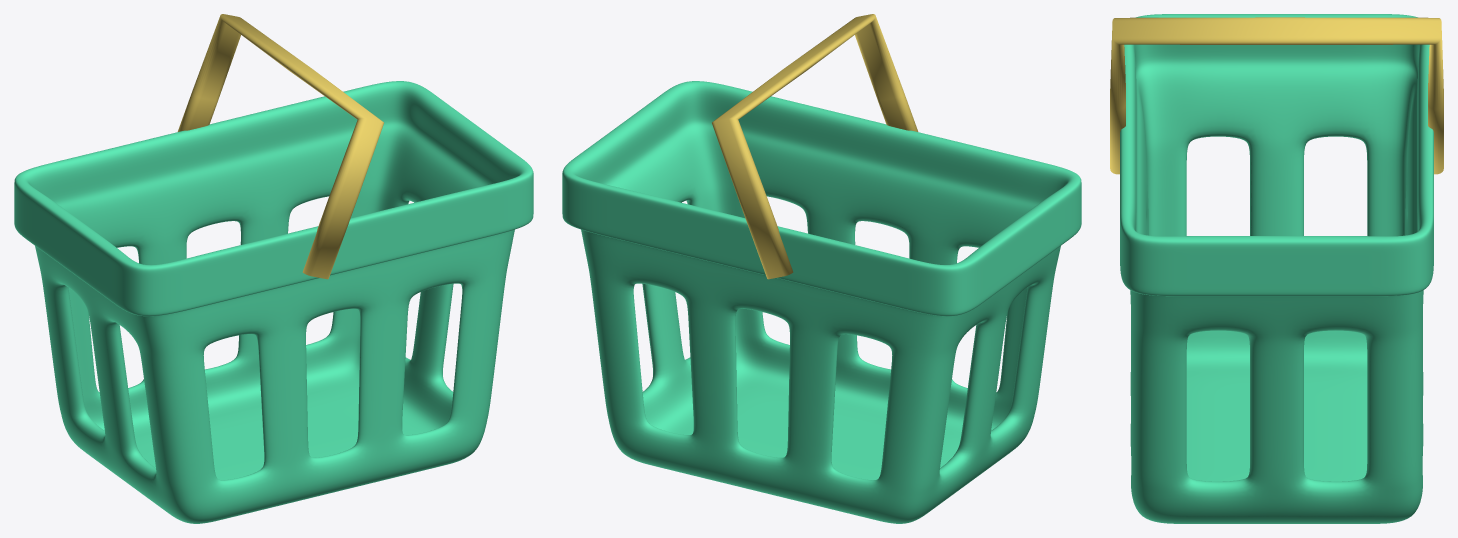
Rendered from Basket.fbx.
3 views of the same model, side by side, from view 1: azimuth 30°, elevation 25°; view 2: azimuth 150°, elevation 25°; view 3: azimuth 270°, elevation 25° (orthographic). The views are drawn at different scales.
Visible parts, largest first — view 1: Cube, Plane; view 2: Cube, Plane; view 3: Cube, Plane.
Boxes of the visible parts, left/top/right/bottom form: Cube: left=14, top=81, right=533, bottom=523; Plane: left=177, top=14, right=383, bottom=279; Cube: left=562, top=81, right=1081, bottom=523; Plane: left=712, top=14, right=918, bottom=279; Cube: left=1120, top=14, right=1433, bottom=523; Plane: left=1110, top=17, right=1443, bottom=174.
Size of the model in its own units: 369 by 333 by 227.
